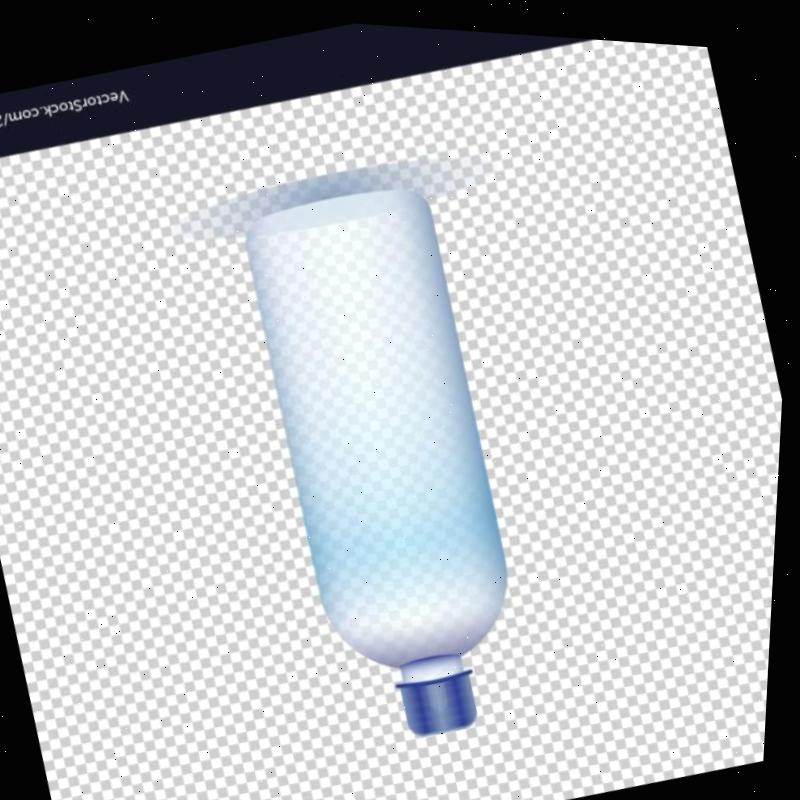botella: (215, 159, 566, 756)
